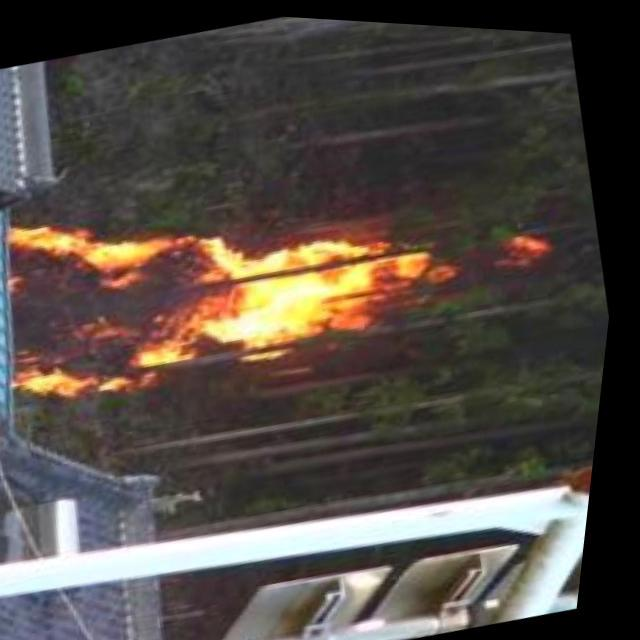fire: (1, 128, 476, 434)
